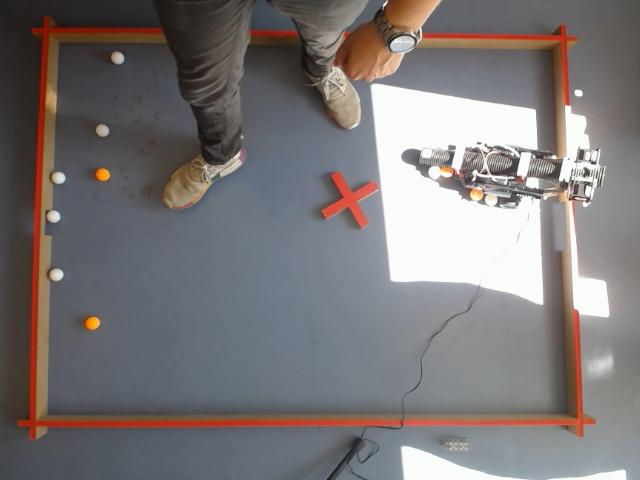orange: (81, 314, 102, 334), (92, 164, 111, 182)
robot: (422, 141, 606, 207)
white: (48, 266, 66, 284), (92, 122, 111, 139), (108, 50, 125, 68), (49, 170, 68, 186), (45, 208, 62, 224)
